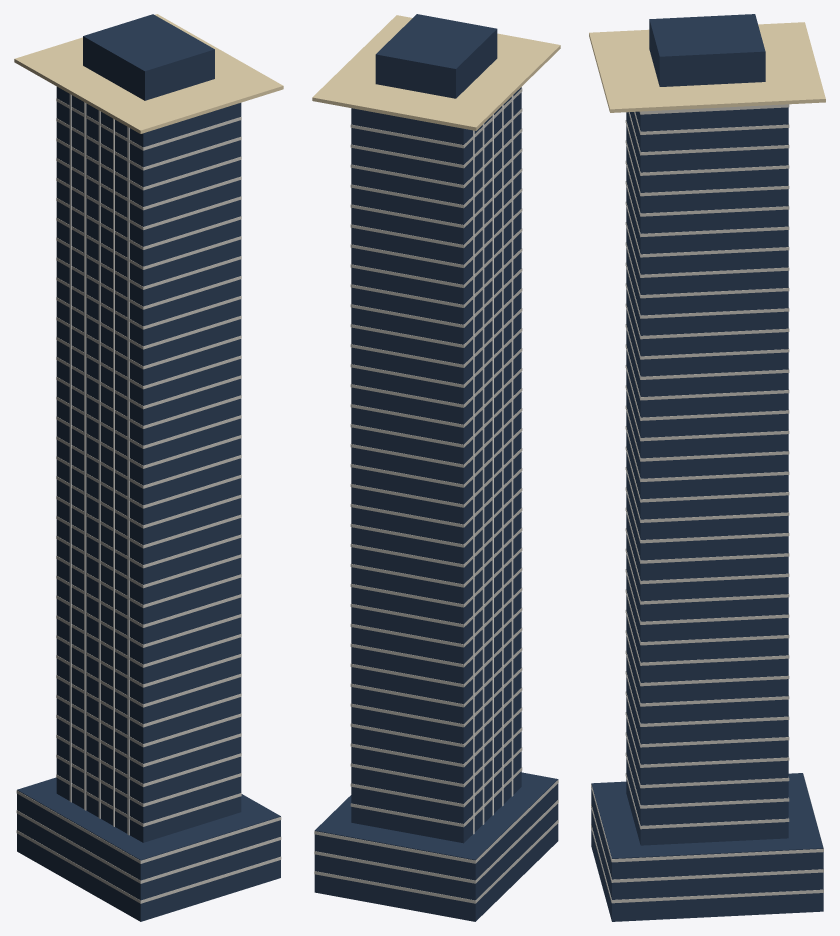
Rendered from executive-tower-k.glb.
3 views of the same model, side by side, from view 1: azimuth 30°, elevation 25°; view 2: azimuth 150°, elevation 25°; view 3: azimuth 270°, elevation 25° (orthographic). The views are drawn at different scales.
Visible parts, largest first — view 1: B_399872166_executive-tower-k, B_399872166_executive-tower-k_gold, mullion.015, mullion.017, mullion.019, mullion.016, mullion.018, band.186, band.188, band.187, band.194, band.212 (+33 smaller); view 2: B_399872166_executive-tower-k, B_399872166_executive-tower-k_gold, mullion.016, mullion.019, mullion.015, mullion.018, mullion.017, band.186, band.187, band.188, band.193, band.192 (+33 smaller); view 3: B_399872166_executive-tower-k, B_399872166_executive-tower-k_gold, band.188, band.186, band.187, band.210, band.203, band.215, band.190, band.198, band.202, band.209 (+29 smaller).
Part boxes in pixels (x1,y1,x2,y2): B_399872166_executive-tower-k: (17,14,280,921); B_399872166_executive-tower-k_gold: (14,14,283,133); mullion.015: (69,94,71,802); mullion.017: (98,110,100,818); mullion.019: (127,127,129,835); mullion.016: (84,102,86,810); mullion.018: (113,118,114,826); band.186: (16,830,281,903); band.188: (16,790,281,863); band.187: (16,810,281,883); band.194: (56,675,241,727); band.212: (56,317,241,369); B_399872166_executive-tower-k: (314,14,558,921); B_399872166_executive-tower-k_gold: (312,15,560,130); mullion.016: (482,123,484,824); mullion.019: (511,95,513,796); mullion.015: (473,130,474,834); mullion.018: (502,104,503,806); mullion.017: (492,114,493,815); band.186: (314,819,558,903); band.187: (314,799,558,883); band.188: (314,780,558,863); band.193: (350,687,522,747); band.192: (350,707,522,767); B_399872166_executive-tower-k: (591,14,823,921); B_399872166_executive-tower-k_gold: (589,22,825,112); band.188: (591,774,823,862); band.186: (591,825,823,903); band.187: (591,804,823,882); band.210: (625,344,789,400); band.203: (625,487,789,543); band.215: (625,242,789,298); band.190: (625,753,789,808); band.198: (625,589,789,645); band.202: (625,508,789,563); band.209: (625,365,789,420).
Bounding box in the file's own units: 41.24 × 186 × 47.3.
